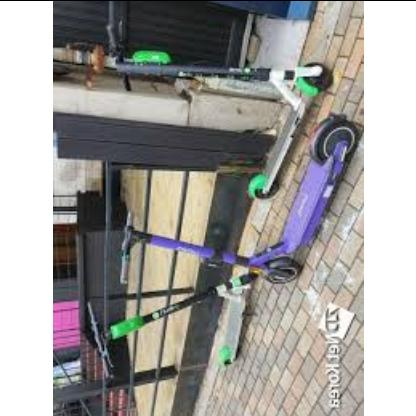bike: (95, 113, 361, 406)
